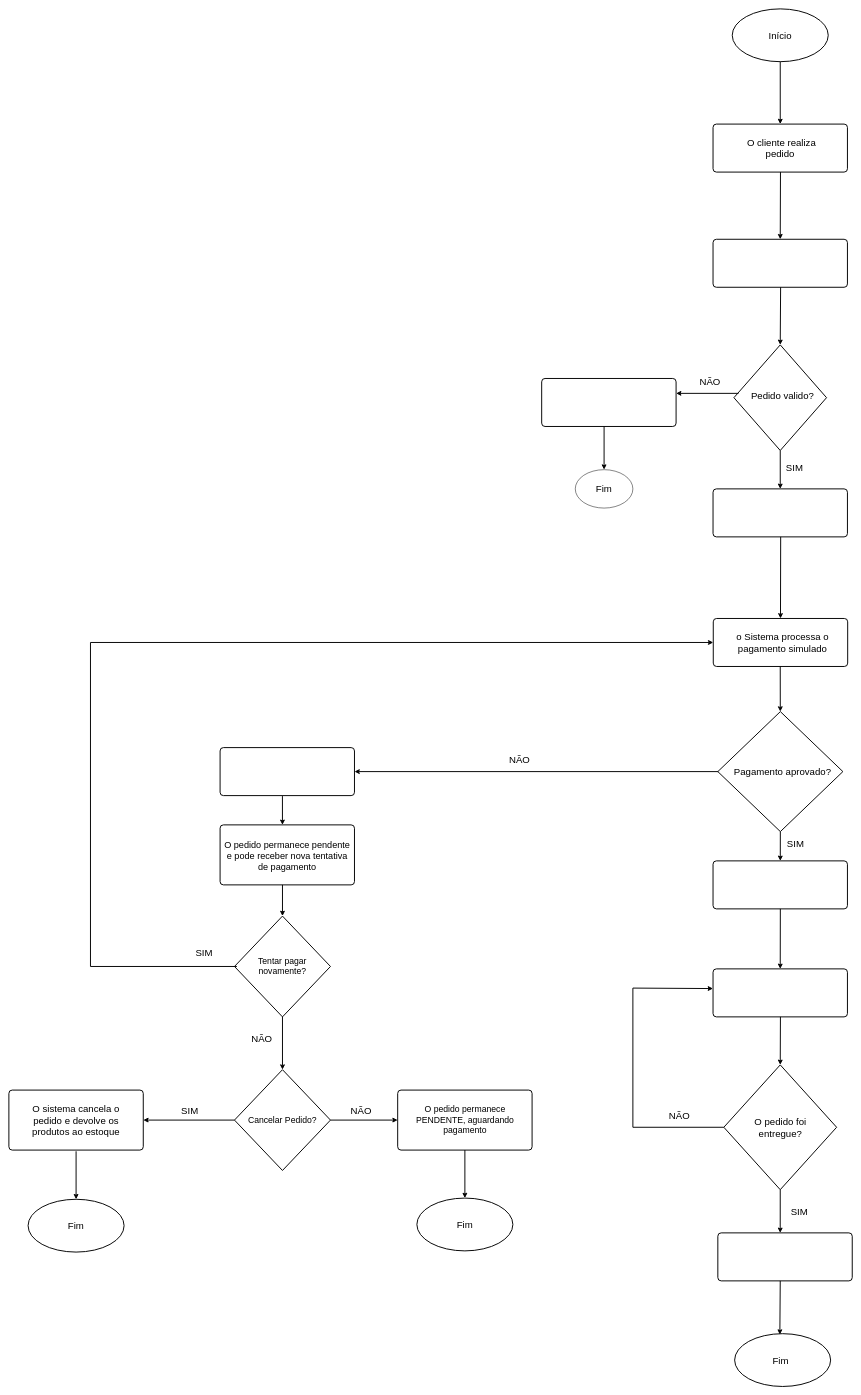
The diagram is 861 pixels wide and 1395 high, and some of its shapes have lost their labels. Each missing label, with the centre of its shape:
"O administrador atualiza o status do pedido" goes at [780,992].
"O pedido segue em preparação" goes at [780,884].
"O sistema informa erro ao cliente" goes at [608,402].
"O sistema registra o pagamento recusado" goes at [287,771].
"O sistema registra o pedido" goes at [780,512].
"O sistema valida pedido e estoque" goes at [780,263].
"Sistema credita os pontos de fidelidade" goes at [784,1256].
